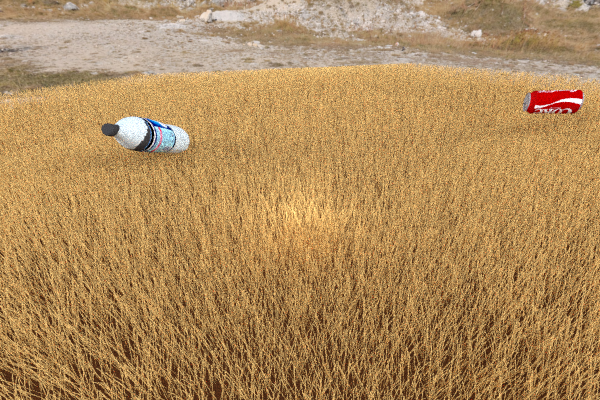bottle: (101, 116, 189, 153)
can: (268, 93, 311, 132), (522, 89, 584, 113)
